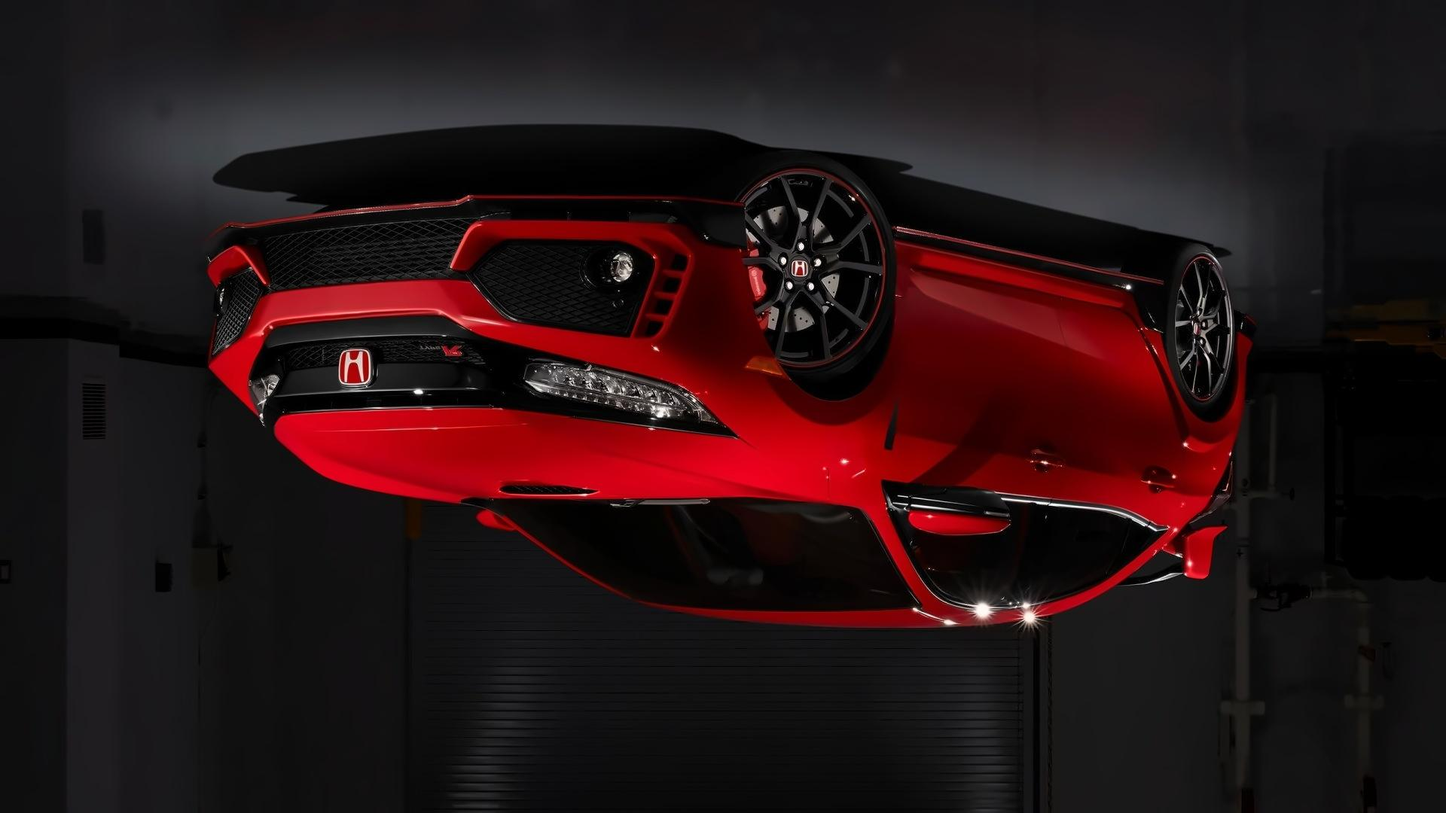Car hood: (267, 404, 798, 508)
Driver-s door - -F-R-: (904, 244, 1069, 627)
Fender - -F-R-: (725, 231, 910, 508)
Fender - -R-R-: (1160, 289, 1226, 524)
Front bumper: (184, 185, 777, 353)
Headlight - -L-: (241, 363, 287, 431)
Headlight - -R-: (517, 343, 737, 440)
Passenger-s door - -R-R-: (1065, 270, 1193, 619)
Rear bumper: (1225, 307, 1282, 415)
Rear light - -R-: (1195, 446, 1254, 530)
Side bumper - -R-: (881, 217, 1177, 333)
Side mirror - -L-: (461, 493, 526, 544)
Side mirror - -R-: (881, 459, 1021, 550)
